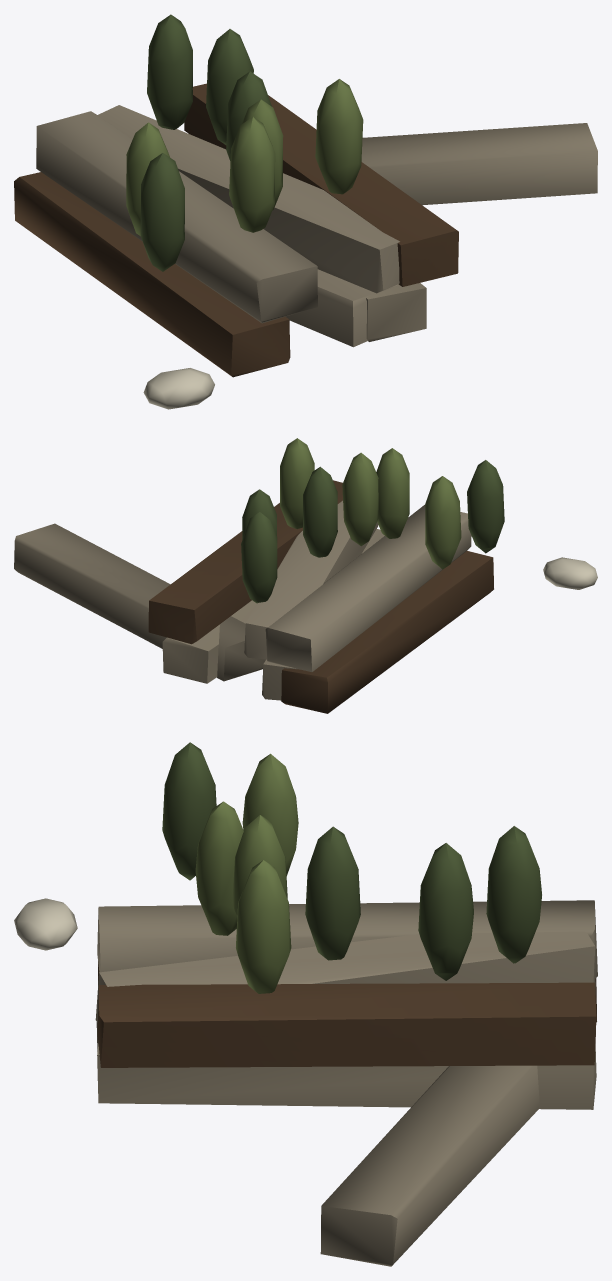
The model's file is timber_ties_c_lod1.glb.
3 views of the same model, one above another, from view 1: azimuth 30°, elevation 25°; view 2: azimuth 150°, elevation 25°; view 3: azimuth 270°, elevation 25° (orthographic). The views are drawn at different scales.
Parts seen in each view (by area): view 1: Surface.001; view 2: Surface.001; view 3: Surface.001.
Boxes of the visible parts, x1,y1,x2,y2 form: Surface.001: [14, 14, 597, 409]; Surface.001: [14, 438, 597, 713]; Surface.001: [14, 742, 597, 1266].
Bounding box in the file's own units: 4.73 × 1.57 × 3.49.
